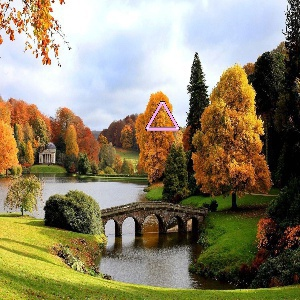triangle: (144, 98, 181, 132)
